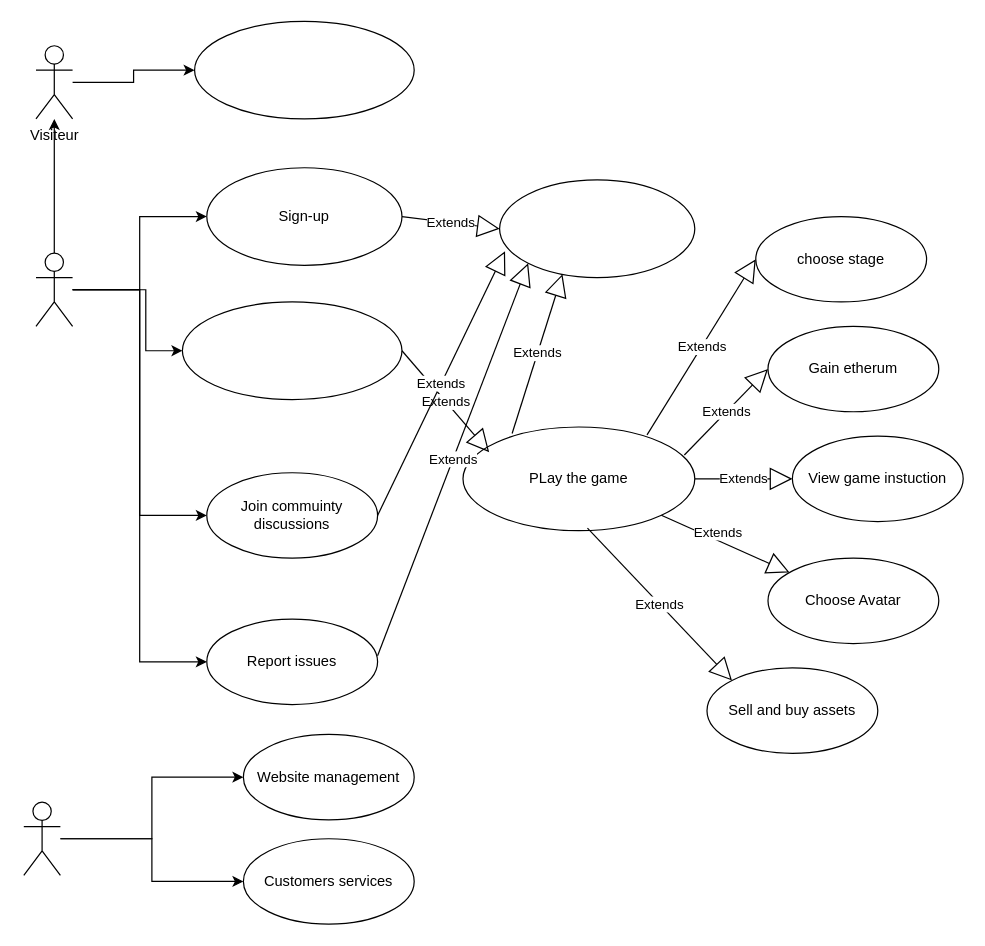
The diagram is 985 pixels wide and 946 high, and some of its shapes have lost their labels. The centre of each missing label's shape, as x and y in pixels:
"Admin" belongs at point (41, 838).
"Authentification" belongs at point (596, 228).
"Downlaod the game" belongs at point (291, 350).
"Player" belongs at point (54, 289).
"visit website" belongs at point (303, 69).
